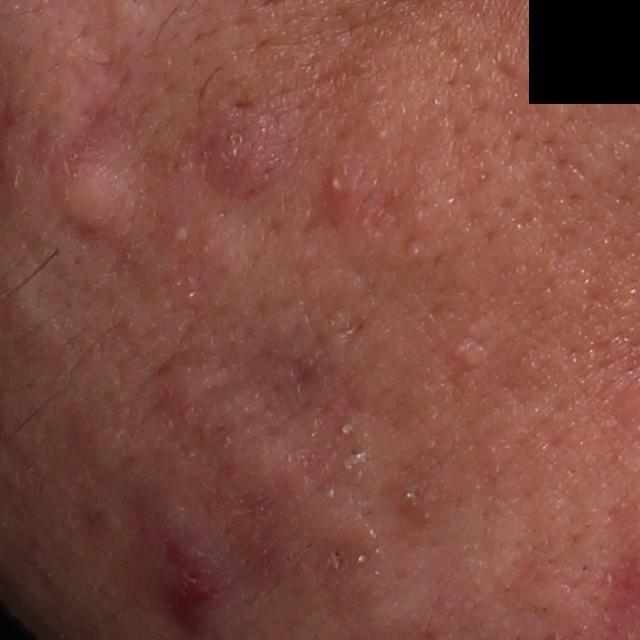hypertrophic_scar: (278, 465, 391, 581), (209, 413, 314, 527), (49, 158, 134, 242)
papule: (204, 122, 275, 201), (148, 362, 217, 425), (318, 153, 362, 206)
